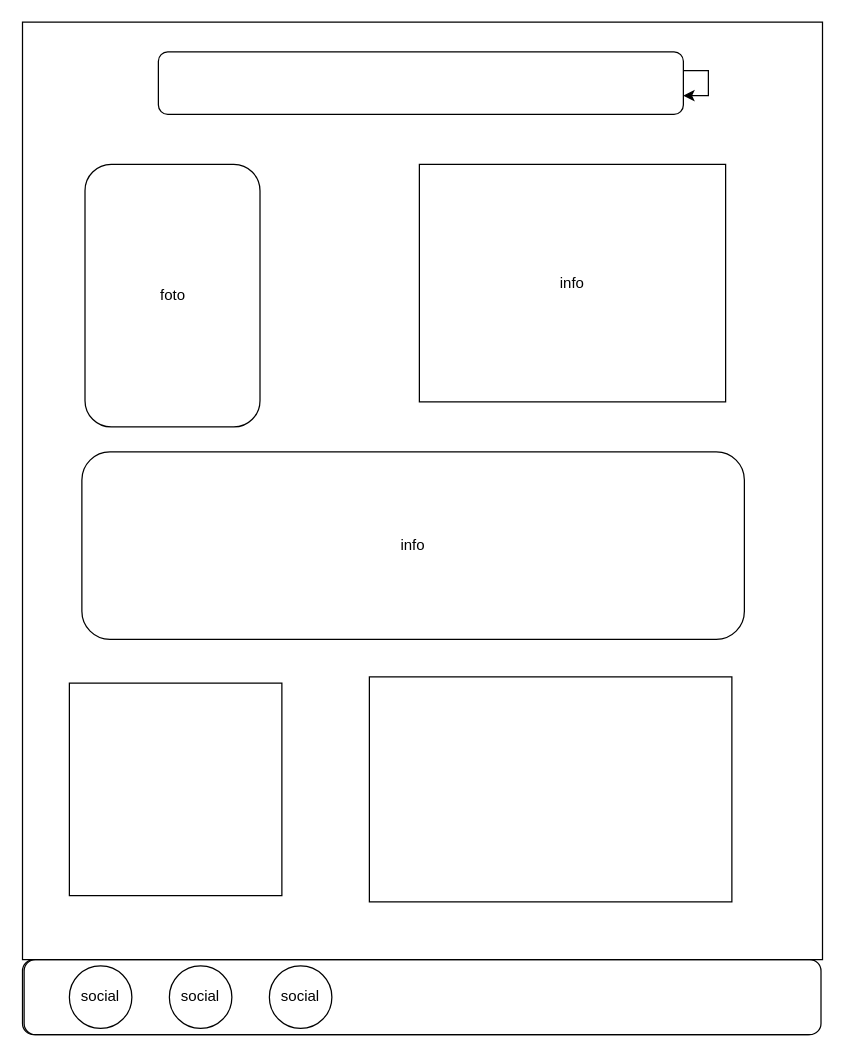
Image size: 844x1060. Some labels were removed from this diagram. The centre of each missing label's shape, as x and y in pixels:
"label" goes at pixel 550 789.
"nome" goes at pixel 420 82.
"tabela/cursos" goes at pixel 175 789.
